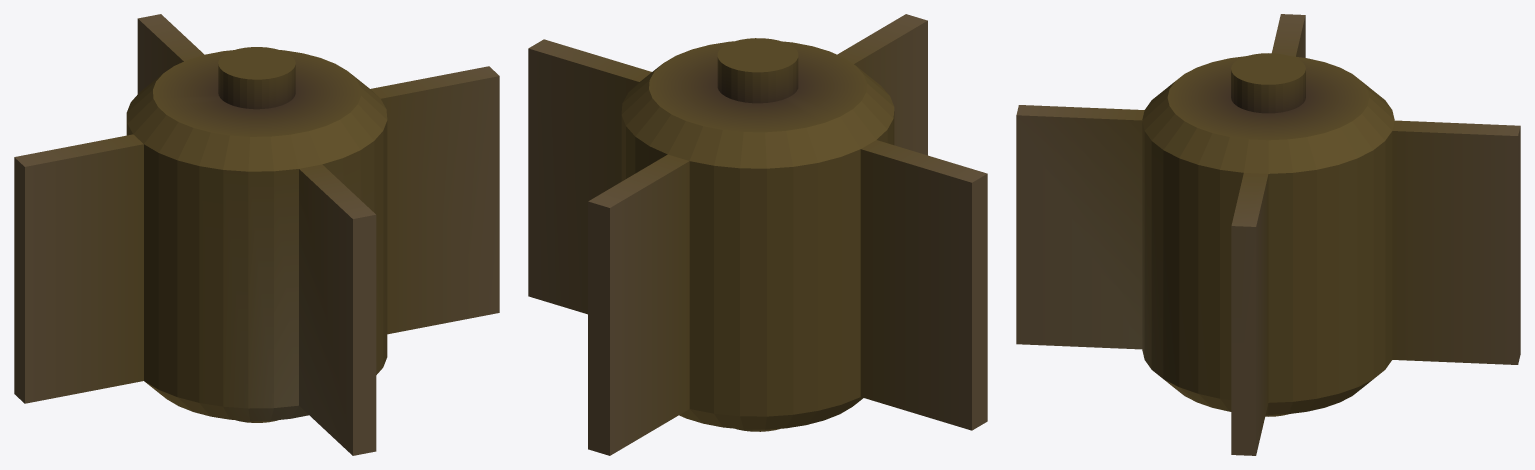
The model's file is Wheel.fbx.
3 renders of one model, left to right at view 1: azimuth 30°, elevation 25°; view 2: azimuth 150°, elevation 25°; view 3: azimuth 270°, elevation 25°, orthographic. The views are drawn at different scales.
Visible parts, largest first — view 1: Cylinder; view 2: Cylinder; view 3: Cylinder.
Part boxes in pixels (x1=…): Cylinder: x1=14, y1=14, x2=499, y2=455; Cylinder: x1=528, y1=14, x2=987, y2=455; Cylinder: x1=1016, y1=14, x2=1520, y2=455.
Size of the model in its own units: 399 by 290 by 399.
